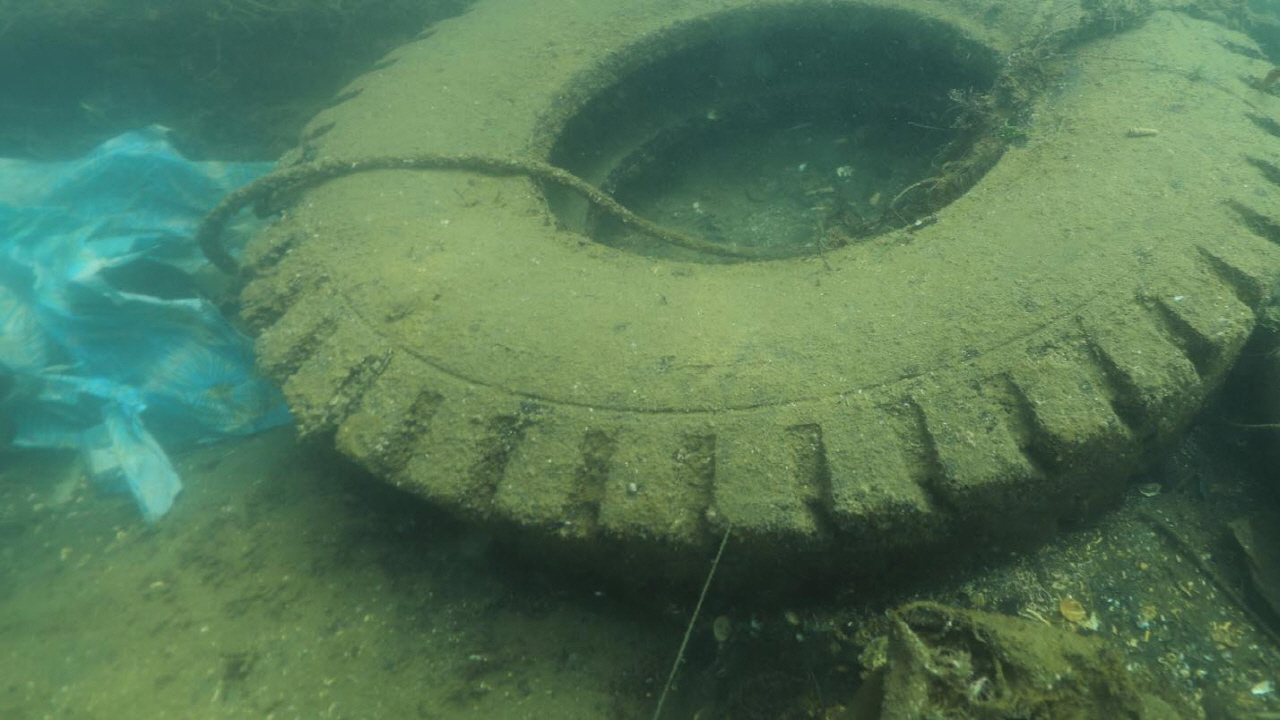rope: (196, 148, 774, 276)
tire: (233, 0, 1280, 611)
